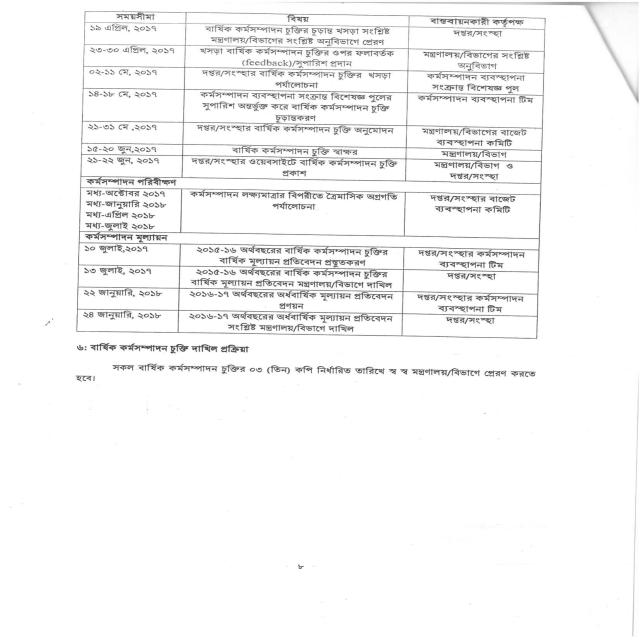page number: (296, 563, 305, 570)
paragraph: (75, 363, 538, 383)
table: (76, 11, 546, 339)
text: (199, 90, 393, 123), (187, 289, 396, 311), (187, 311, 394, 333), (189, 267, 395, 289), (199, 46, 396, 69), (193, 245, 389, 268), (189, 190, 399, 211), (204, 24, 391, 47), (190, 157, 399, 177), (201, 68, 392, 89), (421, 50, 531, 72), (196, 124, 395, 136), (414, 293, 525, 314), (416, 249, 528, 269), (425, 72, 526, 94), (420, 127, 529, 147), (427, 194, 517, 215), (431, 160, 515, 181), (230, 146, 359, 157), (415, 94, 534, 104), (82, 231, 171, 243), (429, 17, 526, 28), (83, 177, 178, 188), (80, 310, 164, 322), (83, 288, 165, 300), (83, 199, 169, 210), (83, 209, 156, 221), (88, 45, 175, 55), (83, 220, 160, 231), (82, 266, 154, 277), (83, 189, 169, 198), (82, 244, 152, 255), (86, 156, 161, 166), (85, 123, 158, 133), (88, 23, 157, 33), (85, 145, 158, 154), (87, 68, 158, 77), (87, 90, 158, 99), (439, 150, 510, 159), (445, 316, 497, 326), (452, 29, 504, 38), (445, 272, 497, 281), (114, 12, 157, 22), (285, 14, 311, 23)
title: (76, 341, 251, 355)
